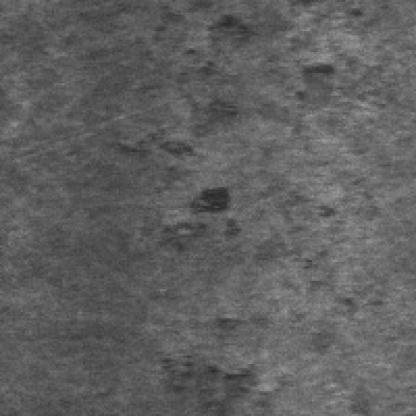rolled-in_scale: (150, 304, 291, 412)
